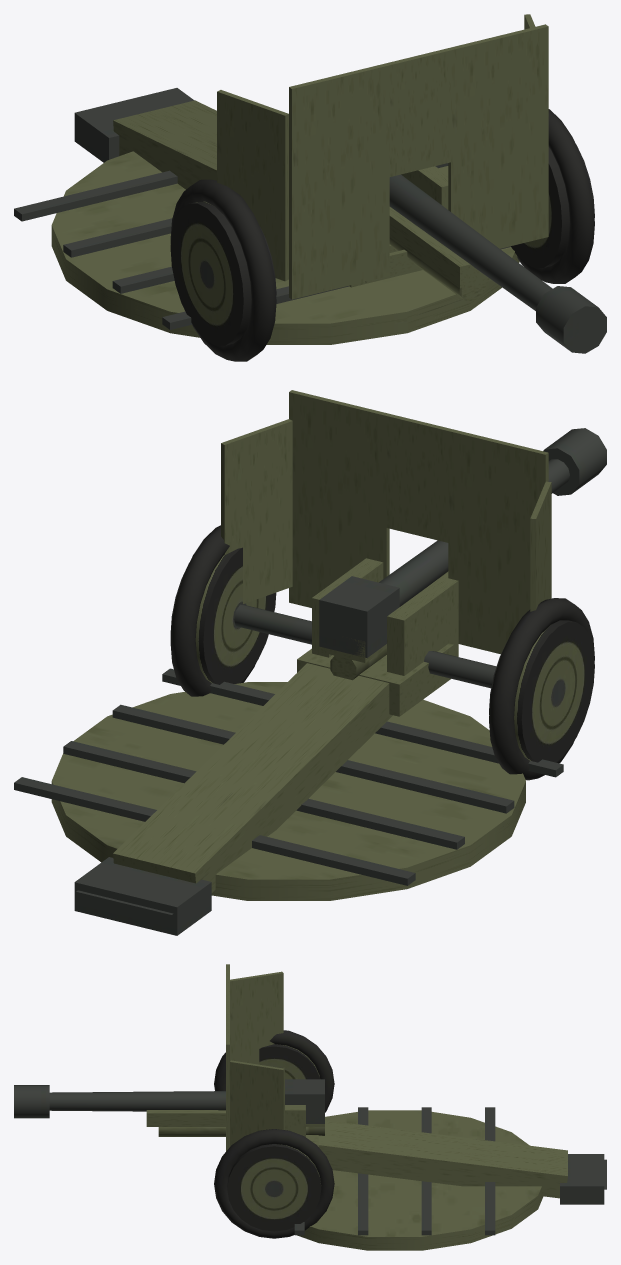
Rendered from artillery.glb.
3 views of the same model, one above another, from view 1: azimuth 30°, elevation 25°; view 2: azimuth 150°, elevation 25°; view 3: azimuth 270°, elevation 25° (orthographic). The views are drawn at different scales.
Parts seen in each view (by area): view 1: shield, platform, wheels_right, barrel, wheels_left, trail_right, trail_left, carriage; view 2: platform, shield, trail_right, trail_left, wheels_right, carriage, barrel, wheels_left; view 3: platform, wheels_left, trail_left, shield, barrel, trail_right, wheels_right, carriage.
Boxes of the visible parts, x1,y1,x2,y2 form: shield: (217, 14, 548, 299); platform: (14, 151, 519, 344); wheels_right: (170, 179, 276, 361); barrel: (389, 174, 606, 353); wheels_left: (511, 109, 594, 283); trail_right: (74, 97, 216, 189); trail_left: (109, 88, 216, 144); carriage: (349, 166, 448, 287); platform: (14, 668, 563, 900); shield: (221, 390, 551, 654); trail_right: (108, 675, 392, 935); trail_left: (74, 663, 349, 927); wheels_right: (489, 598, 594, 780); carriage: (234, 558, 496, 716); barrel: (319, 428, 606, 680); wheels_left: (170, 525, 276, 696); platform: (294, 1107, 543, 1250); wheels_left: (214, 1129, 334, 1238); trail_left: (318, 1135, 606, 1204); shield: (226, 964, 284, 1151); barrel: (14, 1079, 324, 1136); trail_right: (325, 1120, 606, 1178); wheels_right: (214, 1030, 334, 1112); carriage: (285, 1105, 318, 1146).
Size of the model in its own units: 2.36 by 1.6 by 4.67.
Materials: 3 (3 with a texture image).
